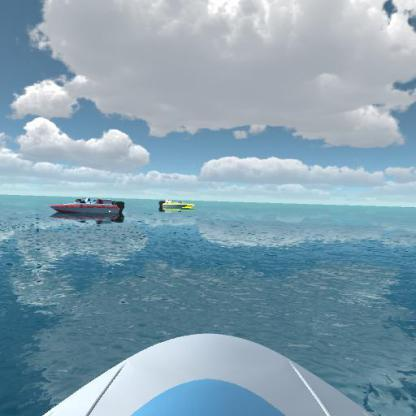usv1: (75, 193, 105, 205)
usv2: (155, 196, 195, 215)
usv3: (47, 198, 128, 221)
